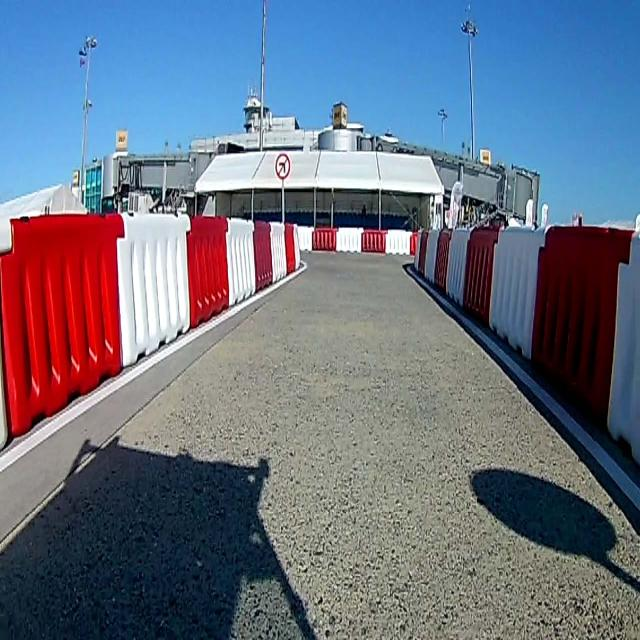soladonulmez: (275, 154, 291, 178)
